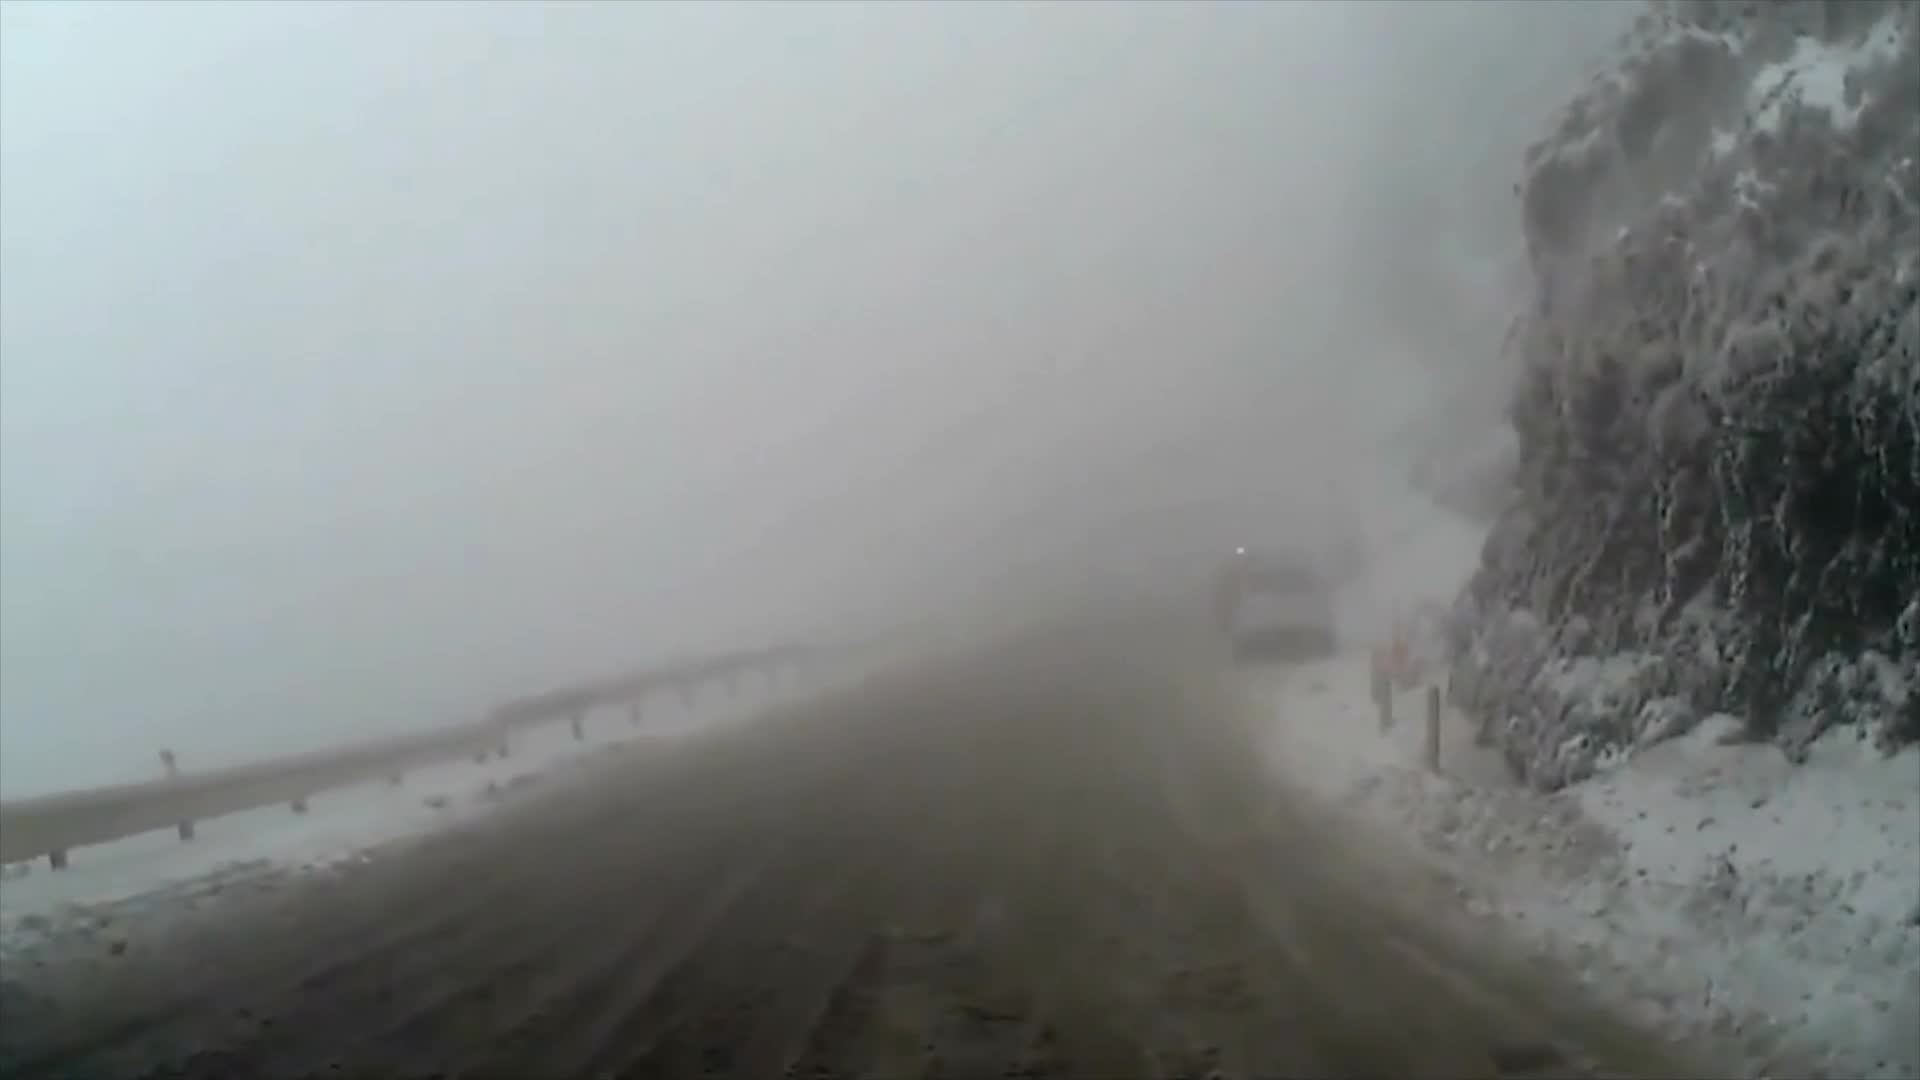vehicle: (1226, 558, 1342, 667)
